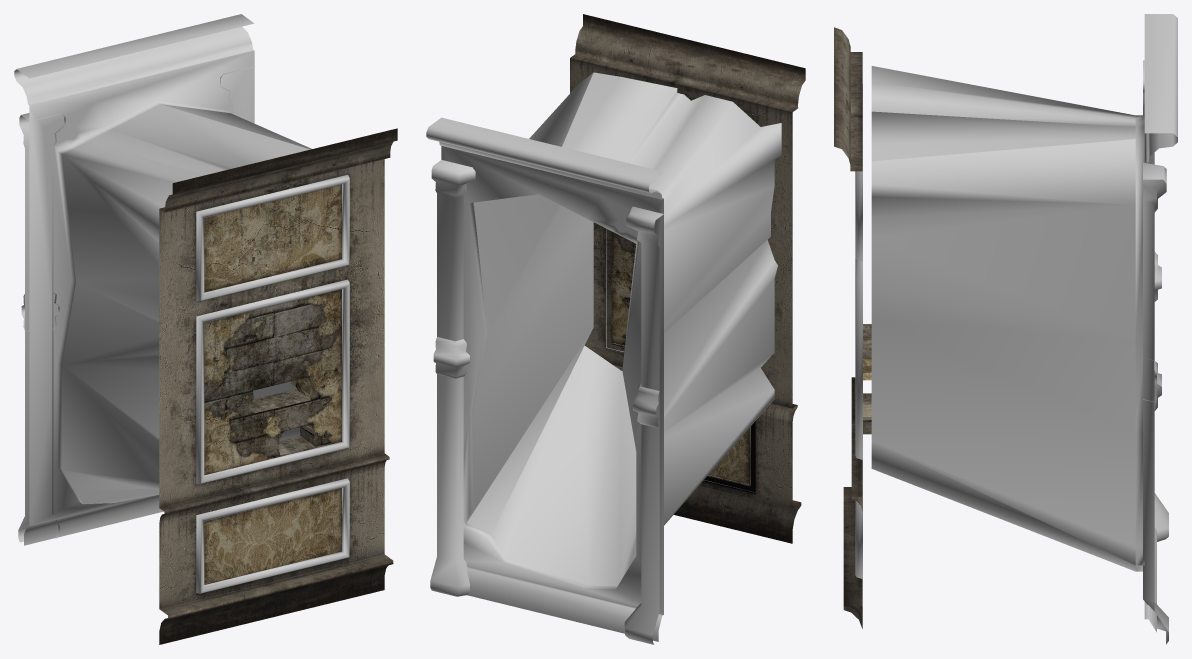
Rendered from mansionbase_secret_passage.dae.
3 renders of one model, left to right at view 1: azimuth 30°, elevation 25°; view 2: azimuth 150°, elevation 25°; view 3: azimuth 270°, elevation 25°, orthographic. The views are drawn at different scales.
Parts seen in each view (by area): view 1: polySurface6, polySurface10, polySurface16, polySurface8, polySurface7, polySurface9; view 2: polySurface10, polySurface16, polySurface6; view 3: polySurface10, polySurface16, polySurface6, polySurface8, polySurface7, polySurface9.
Part boxes in pixels (x1,y1,x2,y2): polySurface6: (159,128,397,644); polySurface10: (62,104,311,504); polySurface16: (14,14,254,545); polySurface8: (196,279,349,483); polySurface7: (196,174,349,301); polySurface9: (196,478,349,593); polySurface10: (467,72,781,586); polySurface16: (426,117,664,644); polySurface6: (570,14,805,543); polySurface10: (871,66,1135,571); polySurface16: (1135,14,1177,644); polySurface6: (834,27,871,628); polySurface8: (855,258,862,459); polySurface7: (855,84,862,261); polySurface9: (855,460,862,578).
Size of the model in its own units: 2 by 4 by 2.44.
